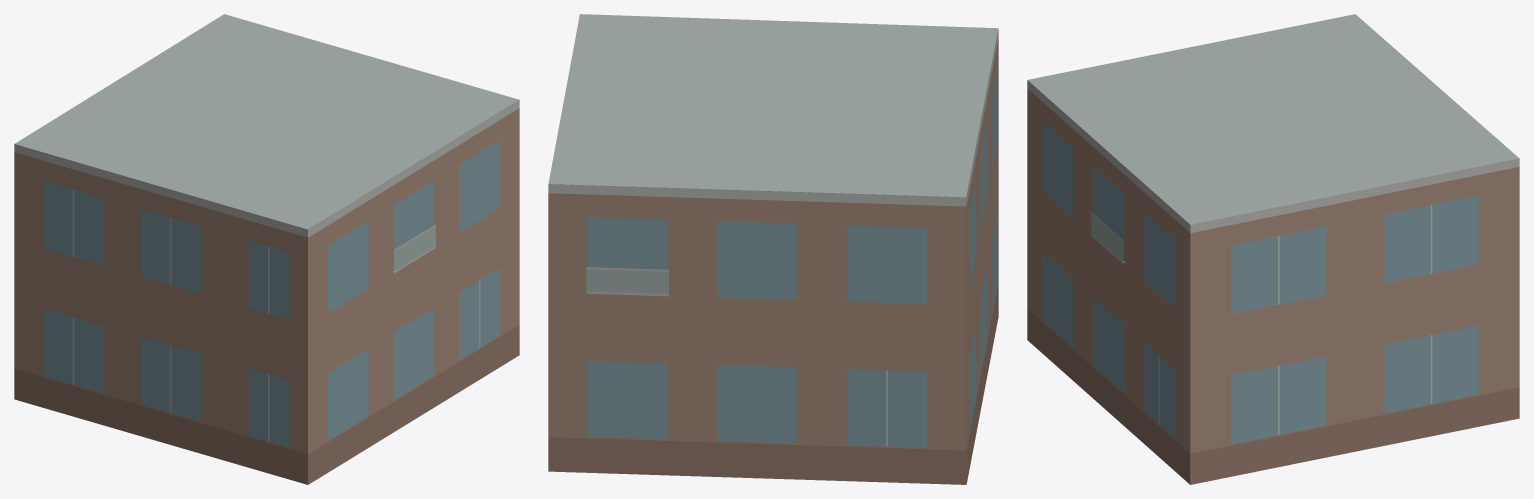
Rendered from survey-upis-32707255.glb.
The picture shows the model from 3 angles, left to right: view 1: azimuth 30°, elevation 25°; view 2: azimuth 150°, elevation 25°; view 3: azimuth 270°, elevation 25°; orthographic projection. The views are drawn at different scales.
Parts seen in each view (by area): view 1: survey-upis-32707255.tmp; view 2: survey-upis-32707255.tmp; view 3: survey-upis-32707255.tmp.
Part boxes in pixels (box(x1,y1,x2,y2)): survey-upis-32707255.tmp: box(14, 14, 519, 484); survey-upis-32707255.tmp: box(548, 14, 998, 484); survey-upis-32707255.tmp: box(1027, 14, 1519, 484).
Bounding box in the file's own units: 13.23 × 7.6 × 13.05.
